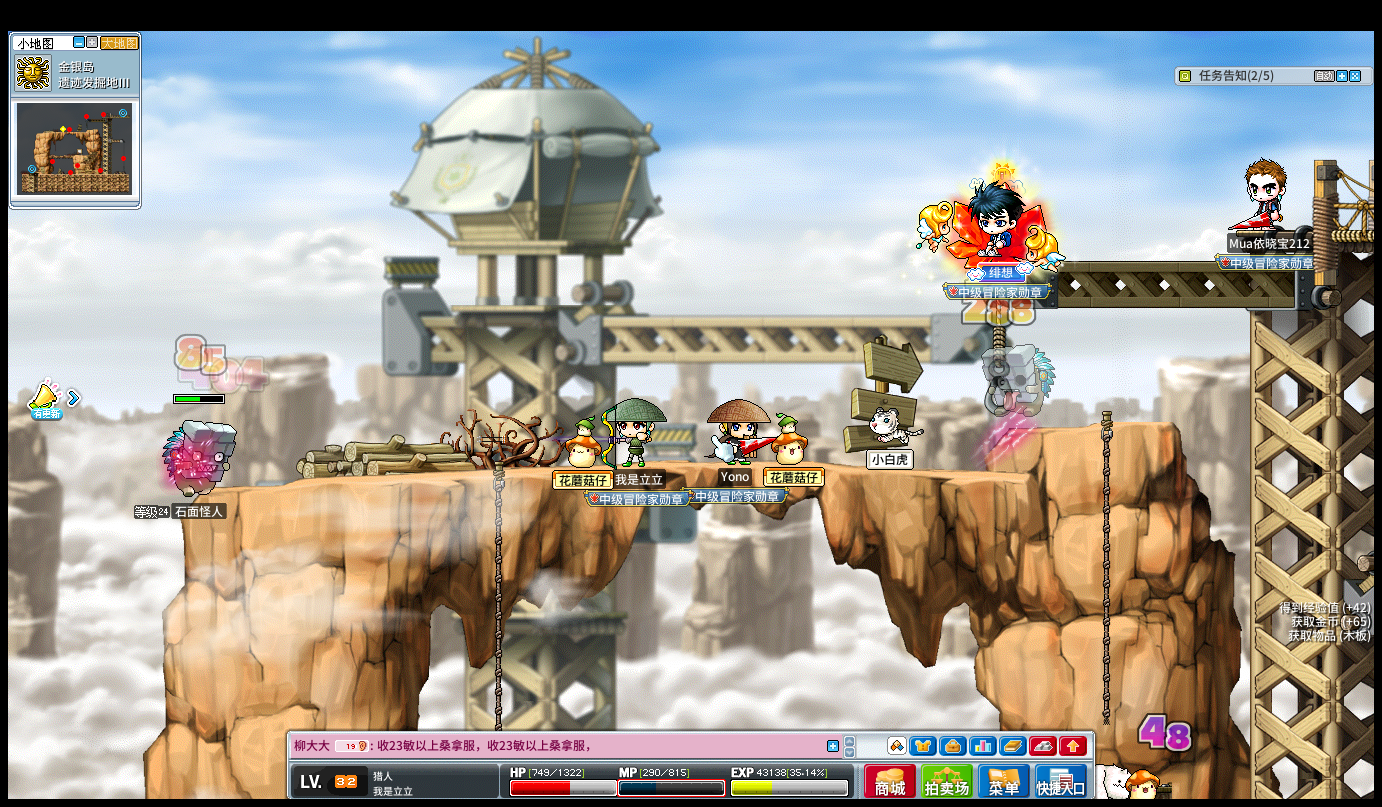floor: (211, 455, 1067, 482), (1025, 417, 1176, 435), (1028, 421, 1173, 437)
monster: (982, 343, 1056, 435), (163, 420, 237, 490)
rope: (1098, 411, 1114, 723), (492, 457, 503, 669)
